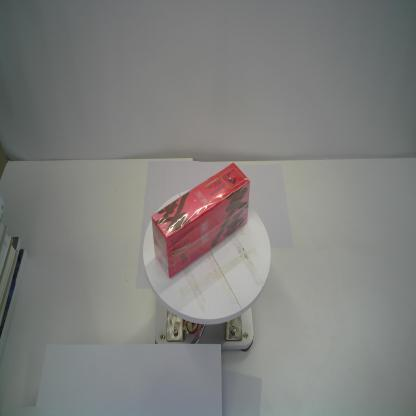Instant Drink: (152, 162, 250, 278)
